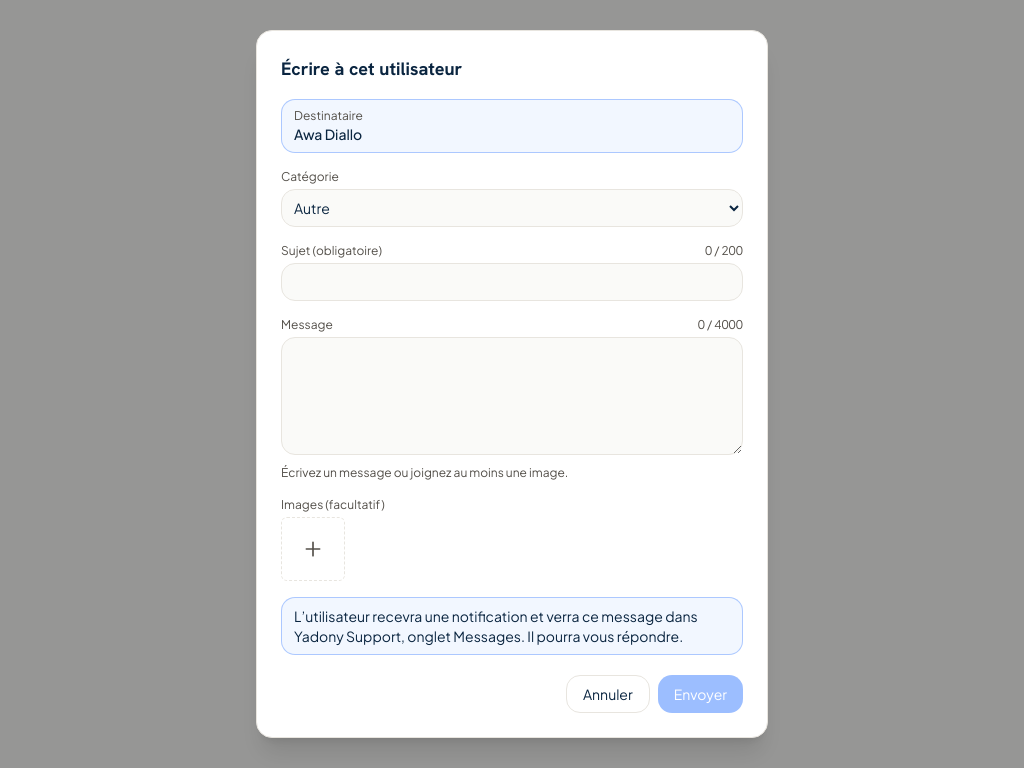
Test: StartSupportConversationDialog › 422 « ni texte ni pièce jointe » : message sous le champ, indication masquée
Type "Votre colis" into the field with test id "start-subject".
click(512, 282); type("Votre colis")  # box [281, 263, 743, 301]
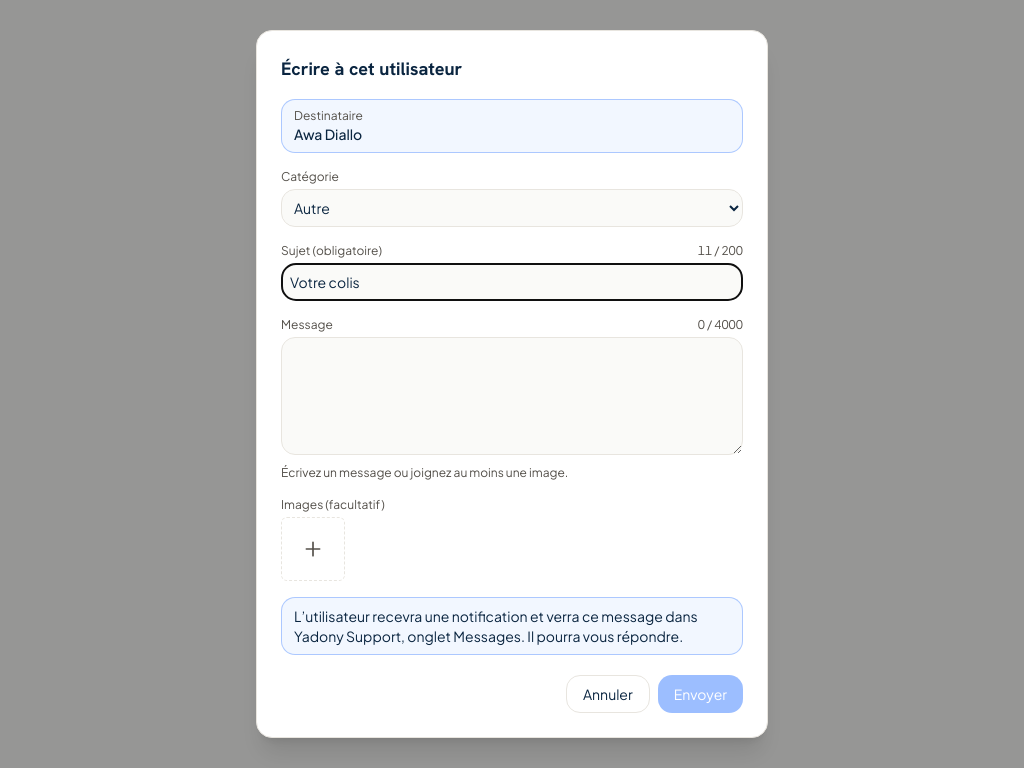
Type "Bonjour Awa" into the text box with test id "start-message".
click(512, 396); type("Bonjour Awa")  # box [281, 337, 743, 455]
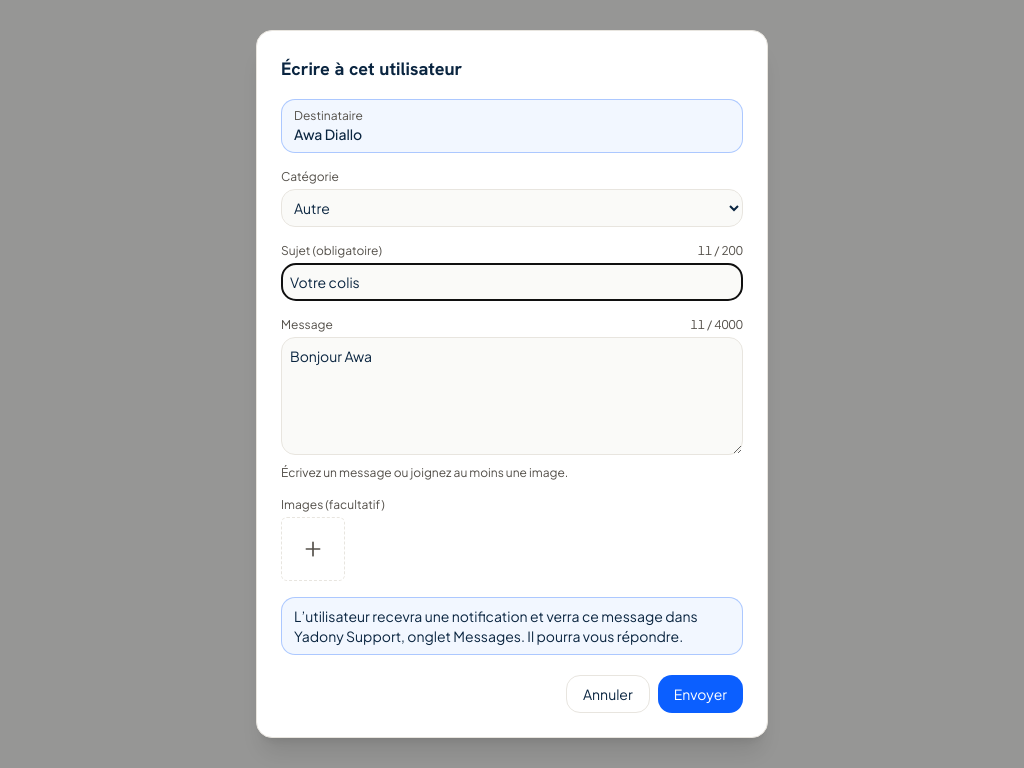
Click the button with test id "start-submit".
click(700, 694)  # box [658, 675, 743, 713]
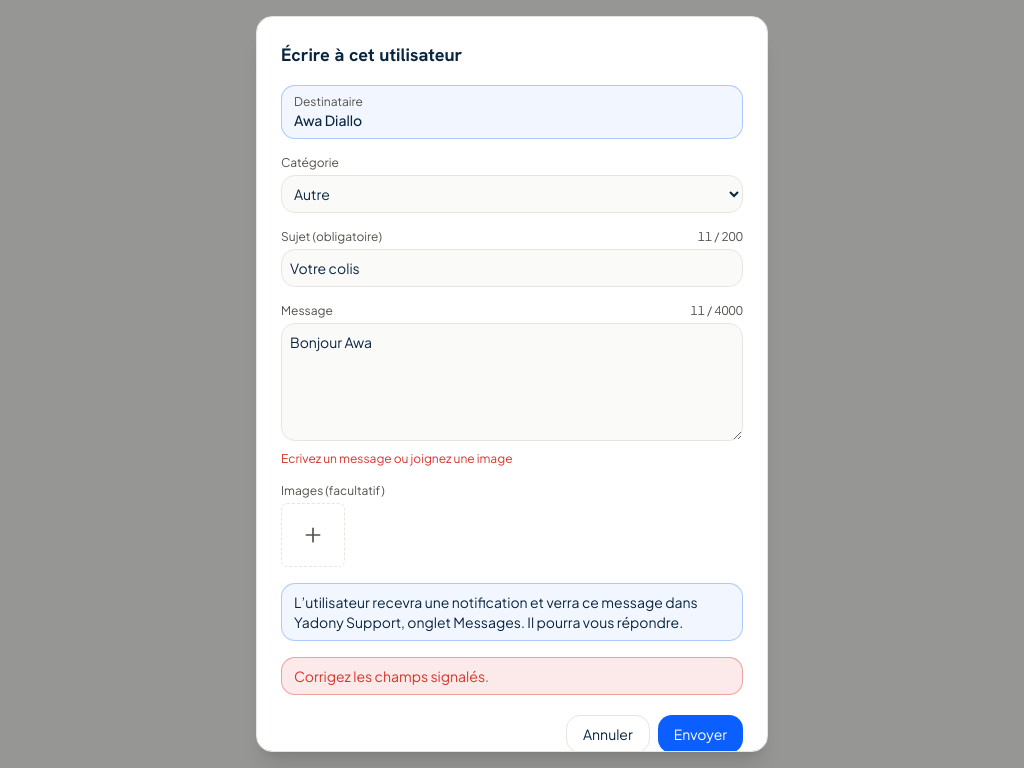
Expected: the text with test id "start-field-error-message" reads "Ecrivez un message ou joignez une image", [281, 451, 512, 466]
